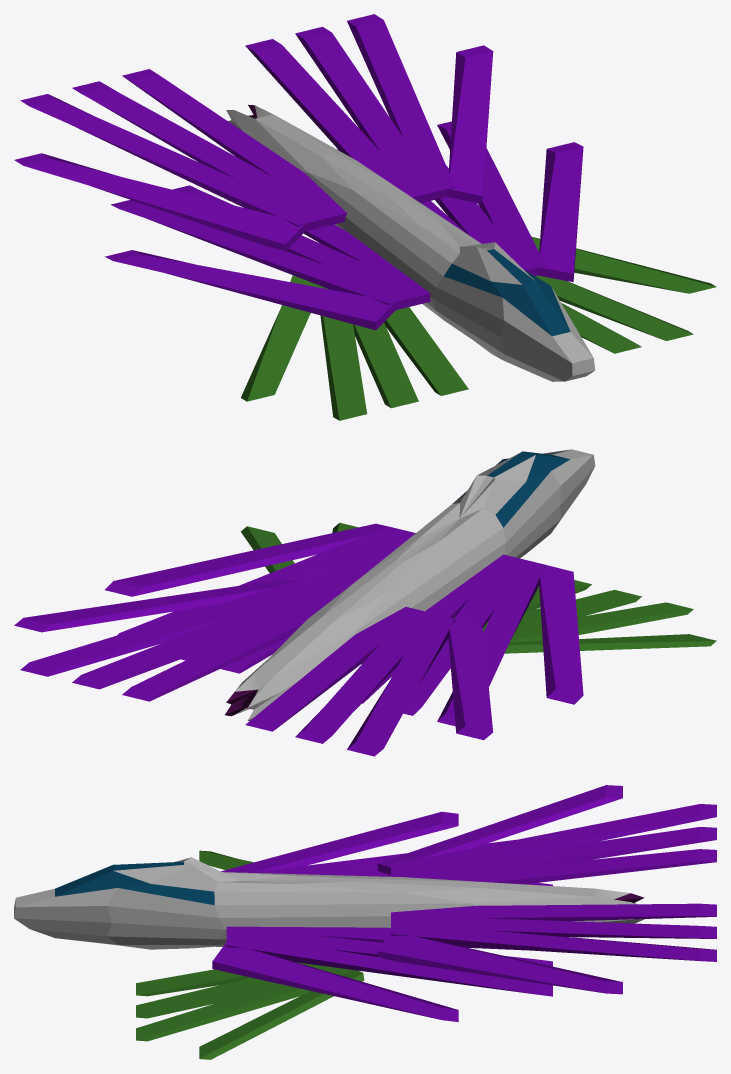
The model's file is enemStriker.fbx.
3 renders of one model, top to bottom at view 1: azimuth 30°, elevation 25°; view 2: azimuth 150°, elevation 25°; view 3: azimuth 270°, elevation 25°, orthographic. The views are drawn at different scales.
Parts seen in each view (by area): view 1: enemStriker; view 2: enemStriker; view 3: enemStriker.
Boxes of the visible parts, x1,y1,x2,y2 form: enemStriker: (14, 14, 716, 420); enemStriker: (14, 449, 716, 756); enemStriker: (14, 785, 716, 1059).
Bounding box in the file's own units: 635 × 144 × 906.
